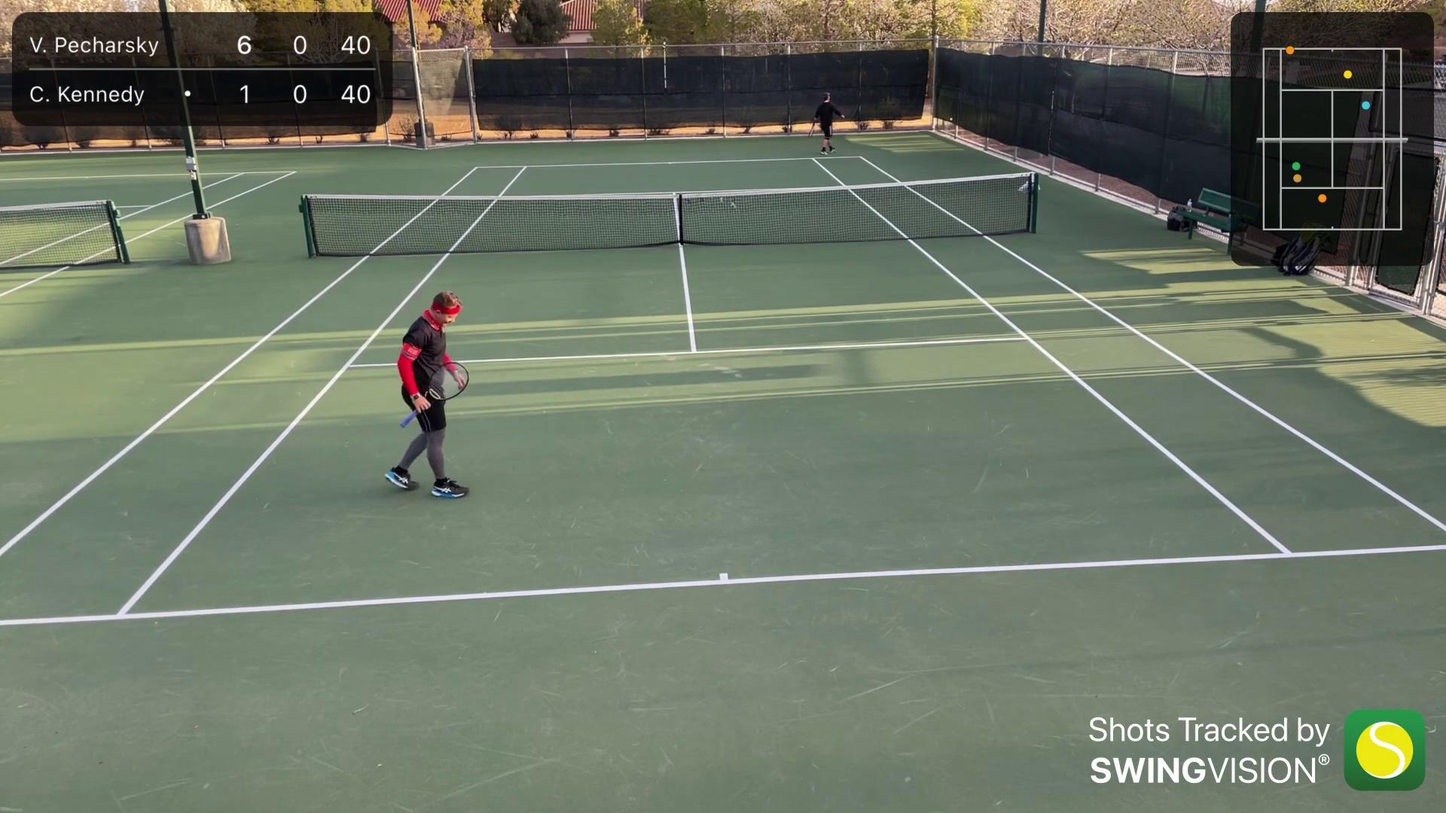ball: (948, 116, 955, 123)
